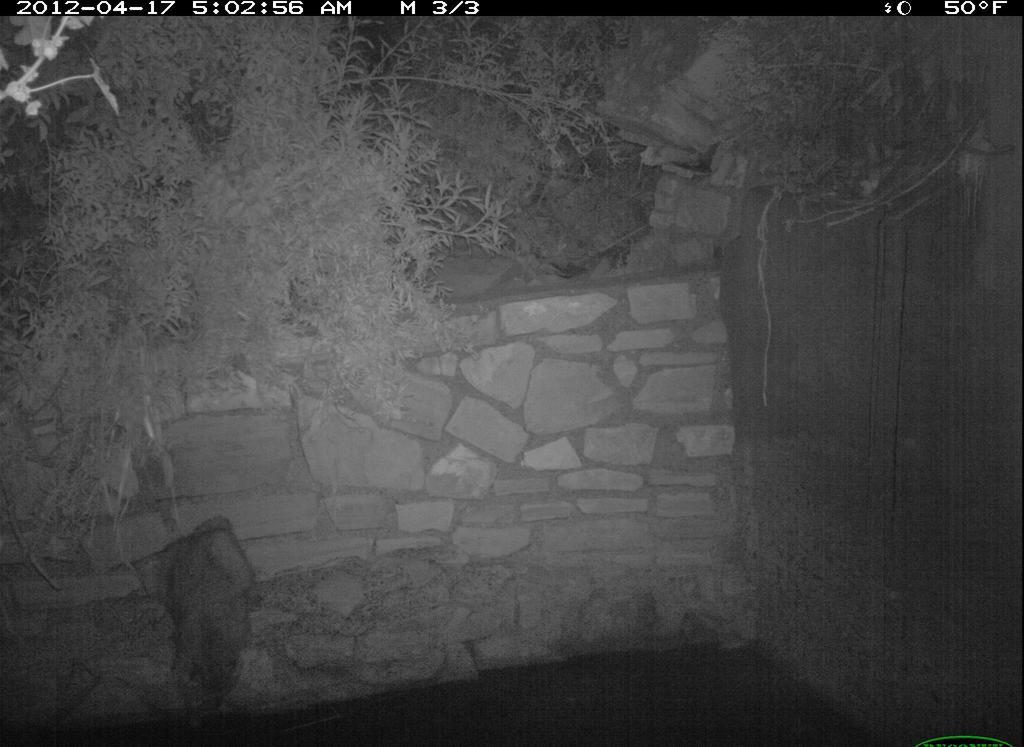raccoon: (161, 514, 269, 719)
